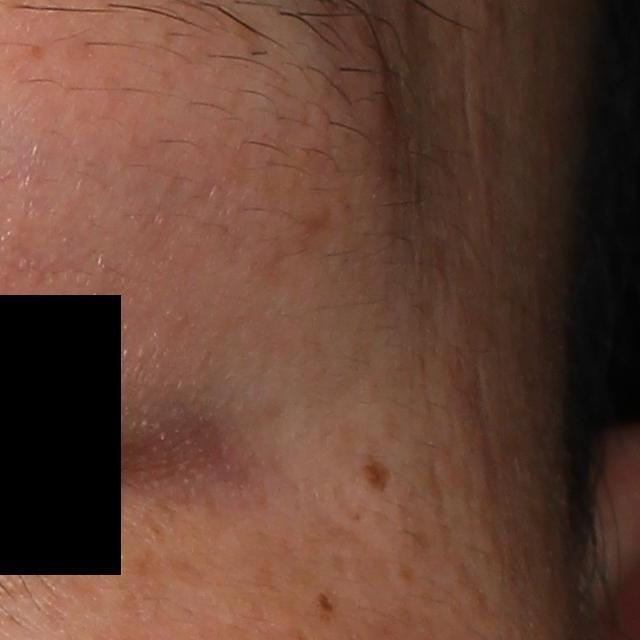melasma: (394, 560, 419, 587), (315, 590, 335, 615)
